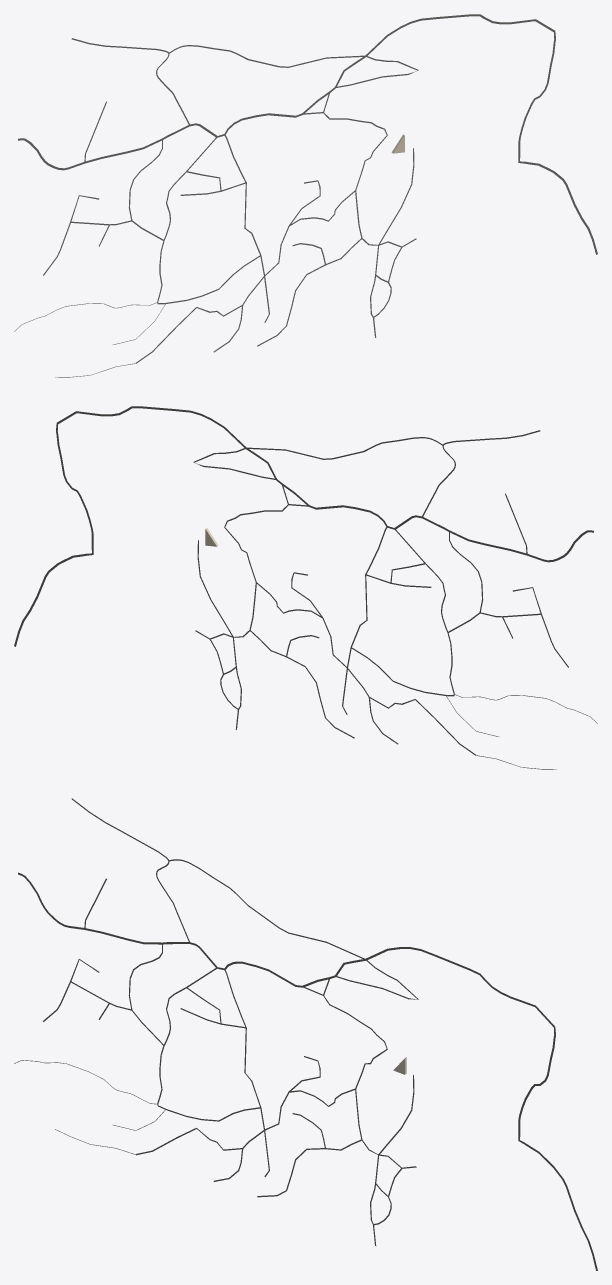
File: historic-palestine-11_35_3526_3293.glb
3 renders of one model, top to bottom at view 1: azimuth 30°, elevation 25°; view 2: azimuth 150°, elevation 25°; view 3: azimuth 330°, elevation 25°, orthographic.
Visible parts, largest first — view 1: Road شارع الجبل, Road شارع الافراح, Road .005, Road شارع البركة; view 2: Road شارع الجبل, Road شارع الافراح, Road .005, Road شارع البركة; view 3: Road شارع الجبل.
Part boxes in pixels (x1,y1,x2,y2): Road شارع الجبل: (18,14,597,254); Road شارع الافراح: (323,93,387,337); Road .005: (157,138,260,304); Road شارع البركة: (136,180,320,363); Road شارع الجبل: (14,406,593,646); Road شارع الافراح: (224,485,288,729); Road .005: (351,530,454,696); Road شارع البركة: (291,572,475,755); Road شارع الجبل: (18,872,597,1270).
Size of the model in its own units: 1531 by 937 by 8.7.
